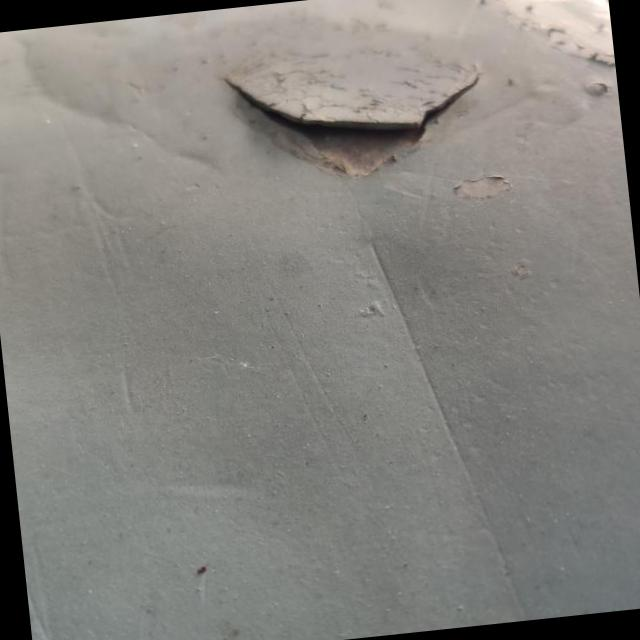Crack: (217, 41, 482, 179)
